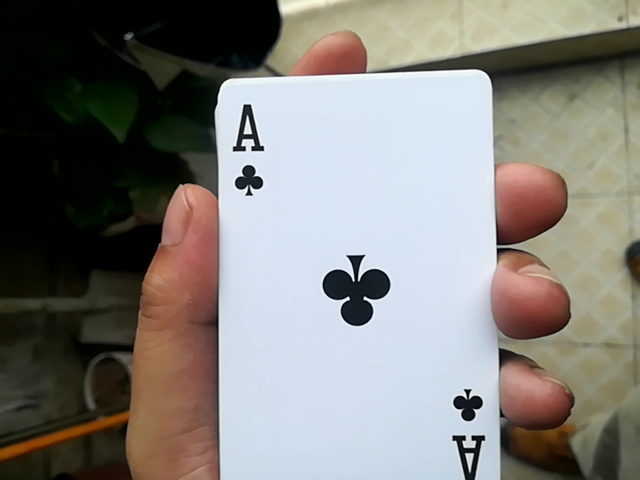mh a: (210, 59, 505, 478)
